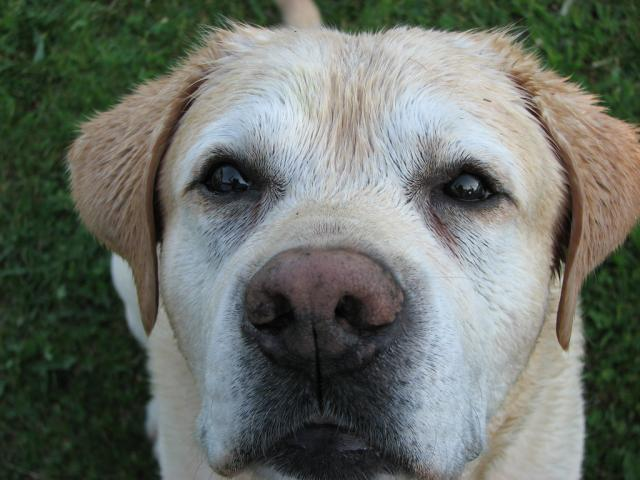Dog: (61, 0, 640, 480)
